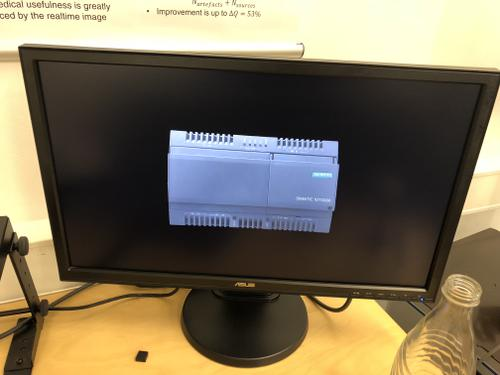device: (168, 131, 340, 234)
